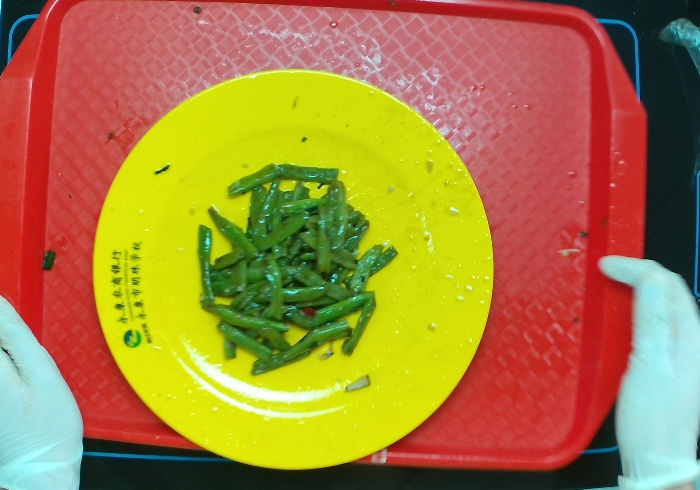YKMZ-Huang_Se_Mian_Pan: (91, 67, 506, 472)
